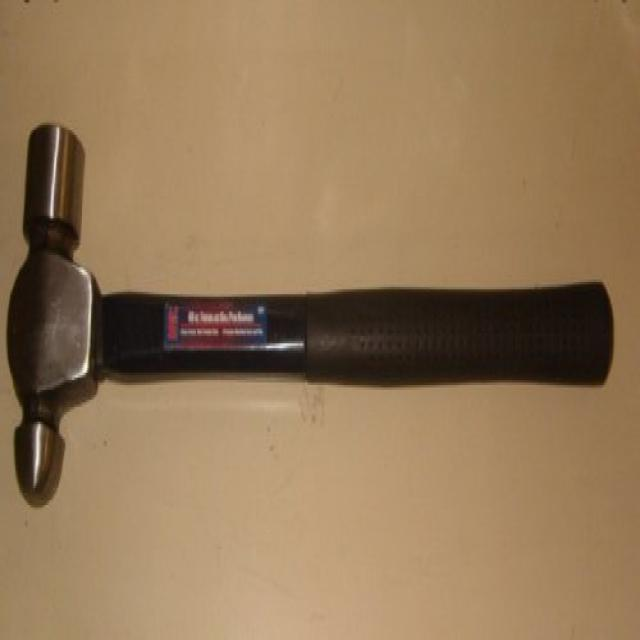hammer: (1, 87, 627, 528)
